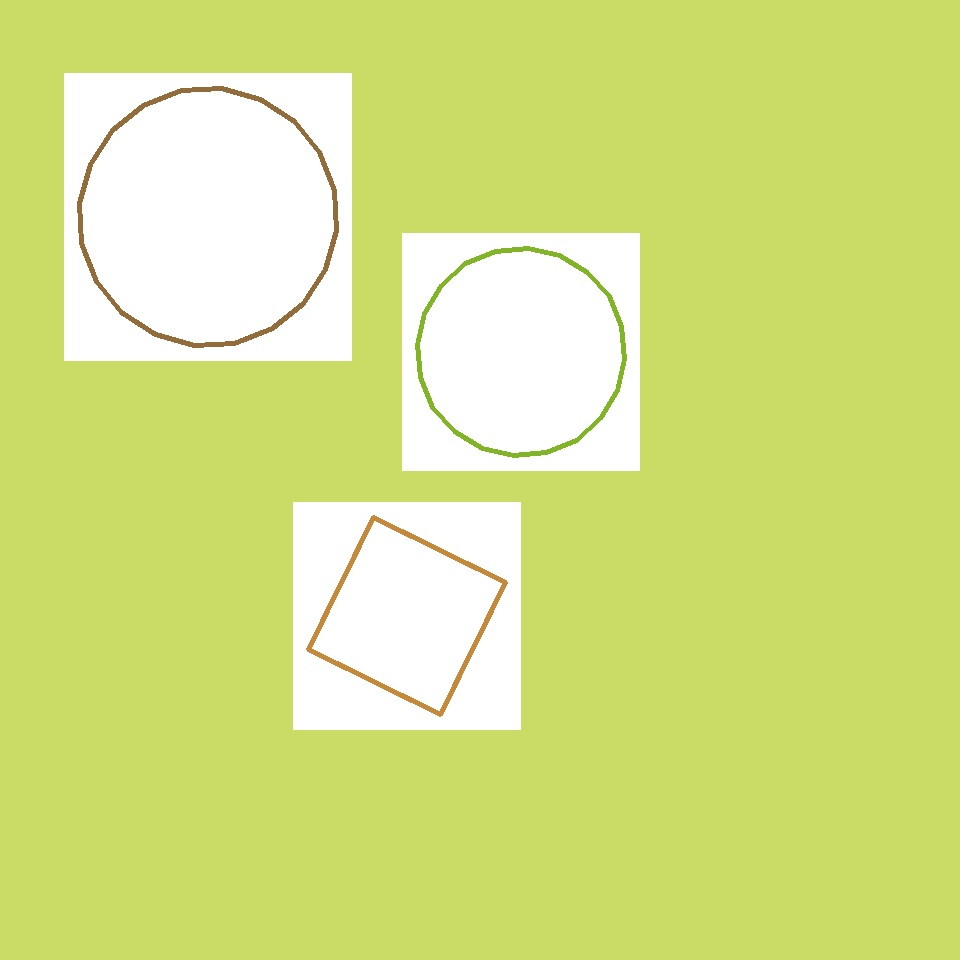circle: (396, 515, 664, 816), (236, 130, 462, 382), (667, 300, 887, 492)
square: (496, 300, 728, 530), (308, 518, 506, 715)
triangle: (80, 88, 336, 346), (418, 248, 624, 456), (545, 558, 742, 755), (88, 461, 262, 634)
